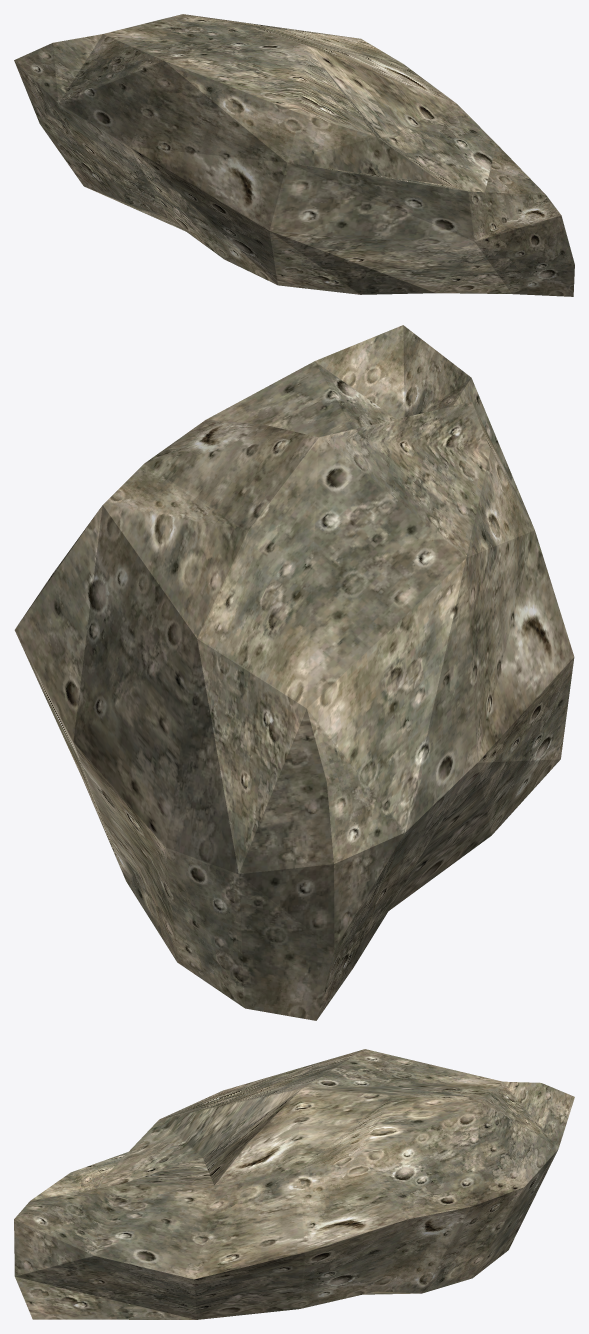
The model's file is asteroid_all_medium_02_l1.fbx.
The picture shows the model from 3 angles, top to bottom: view 1: azimuth 30°, elevation 25°; view 2: azimuth 150°, elevation 25°; view 3: azimuth 270°, elevation 25°; orthographic projection. The views are drawn at different scales.
Parts seen in each view (by area): view 1: mesh_node; view 2: mesh_node; view 3: mesh_node.
Part boxes in pixels (x1=…): mesh_node: x1=14, y1=14, x2=574, y2=296; mesh_node: x1=14, y1=325, x2=574, y2=1020; mesh_node: x1=14, y1=1049, x2=574, y2=1319.
Size of the model in its own units: 53.35 by 36.97 by 89.18.
